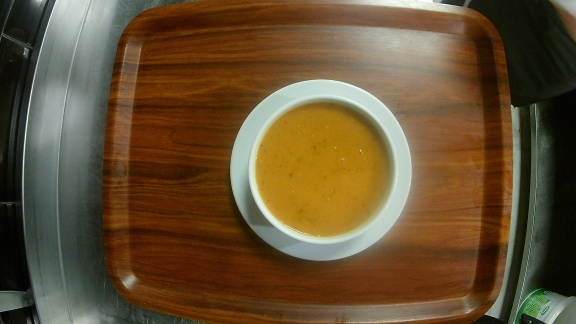ezogelin: (231, 77, 411, 261)
